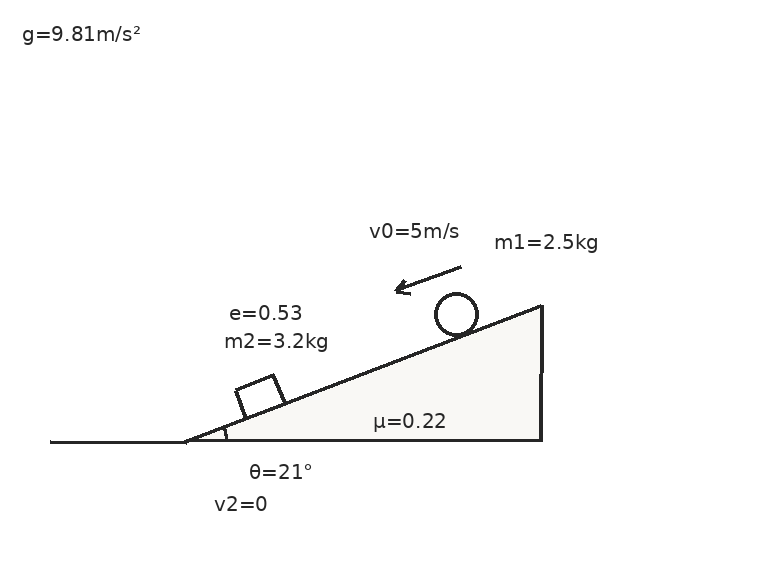ball: (432, 290, 480, 338)
block: (232, 373, 286, 420)
ramp: (184, 303, 542, 443)
